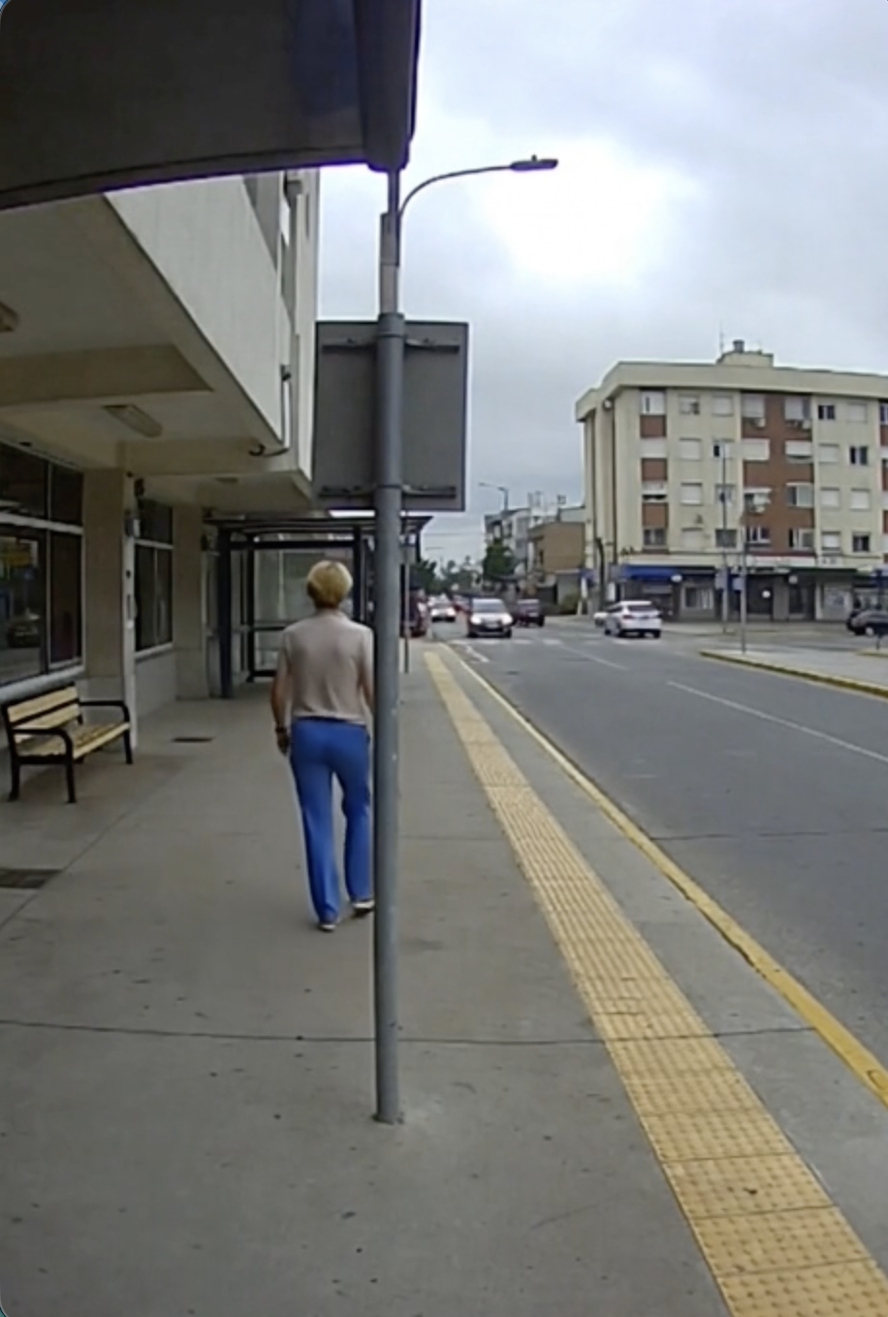Heavy Gun: (265, 550, 392, 934)
